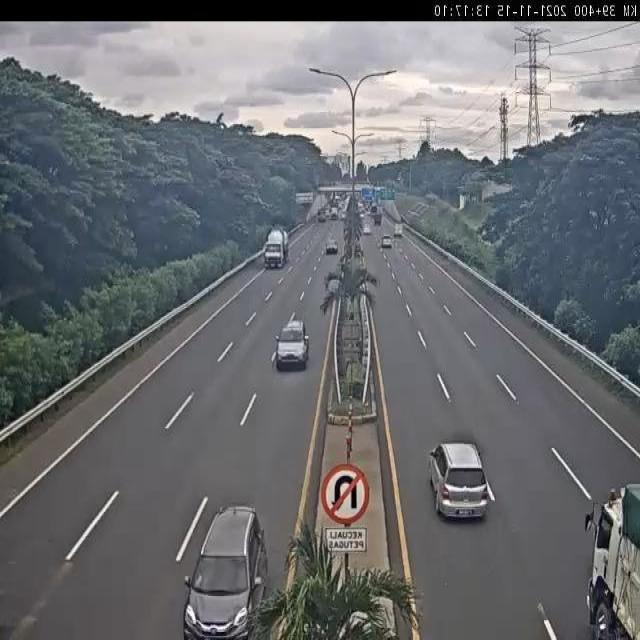Car: (182, 506, 270, 640), (428, 441, 491, 520), (273, 319, 311, 368), (326, 240, 340, 254), (382, 234, 392, 247)
Truck: (582, 482, 640, 638), (263, 227, 290, 268), (393, 221, 403, 237)
